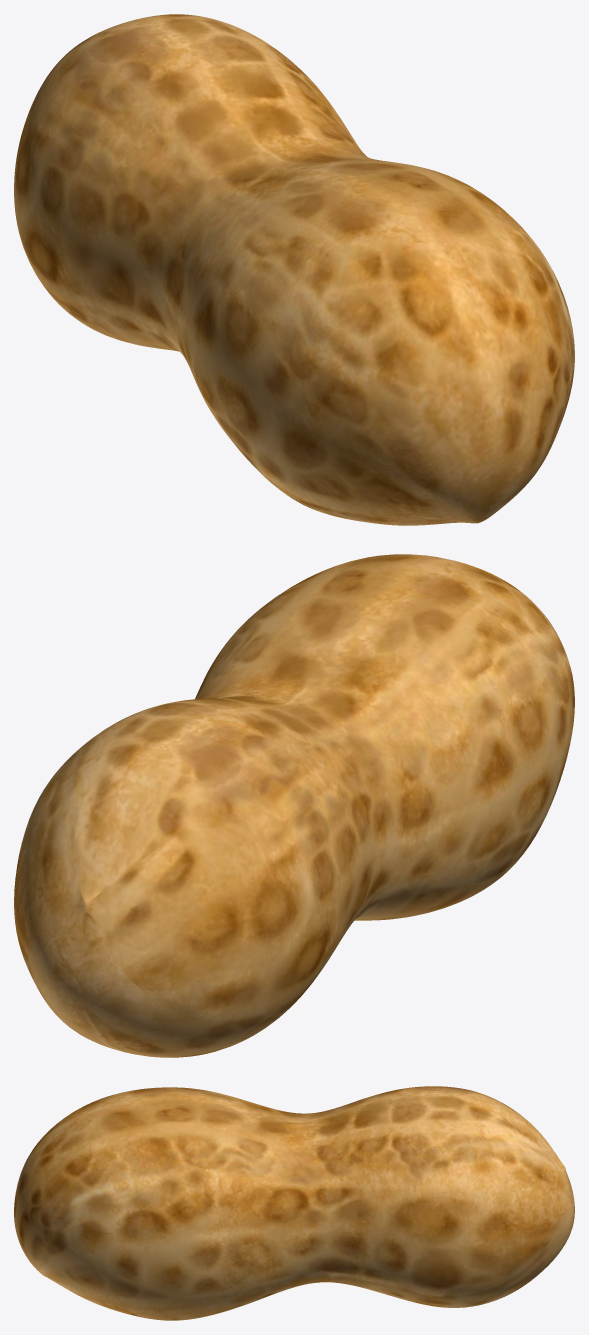
The model's file is peanut.gltf.
3 renders of one model, top to bottom at view 1: azimuth 30°, elevation 25°; view 2: azimuth 150°, elevation 25°; view 3: azimuth 270°, elevation 25°, orthographic. The views are drawn at different scales.
Parts seen in each view (by area): view 1: 10197_Peanut_v1.-L3; view 2: 10197_Peanut_v1.-L3; view 3: 10197_Peanut_v1.-L3.
Part boxes in pixels (<box>): 10197_Peanut_v1.-L3: <box>14,14,574,525</box>; 10197_Peanut_v1.-L3: <box>14,554,574,1057</box>; 10197_Peanut_v1.-L3: <box>14,1086,574,1320</box>.
Bounding box in the file's own units: 1.22 × 1.22 × 2.95.
1 material, 1 textured.
